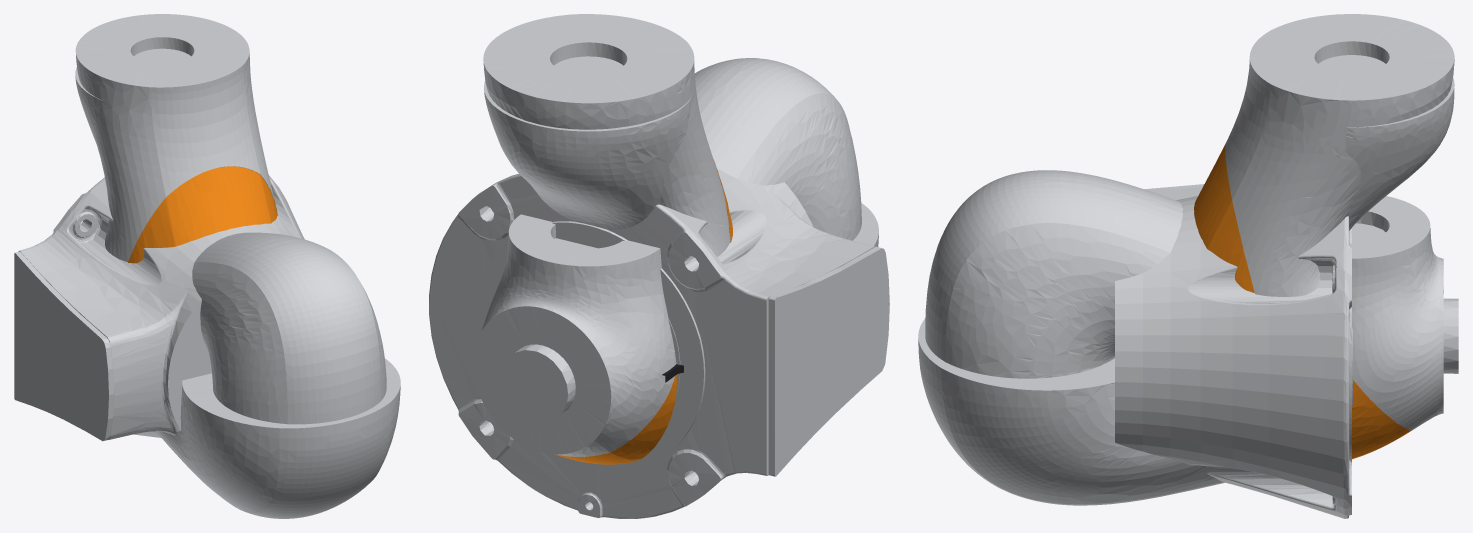
Rendered from arm.glb.
The picture shows the model from 3 angles, left to right: view 1: azimuth 30°, elevation 25°; view 2: azimuth 150°, elevation 25°; view 3: azimuth 270°, elevation 25°; orthographic projection. The views are drawn at different scales.
Parts seen in each view (by area): view 1: b3, b1, b4, b2, b5; view 2: b1, b7, b3, b4, b5, b2; view 3: b1, b3, b4, b2, b7, b5.
Part boxes in pixels (box(x1,y1,x2,y2)): b3: box(75, 14, 277, 263); b1: box(14, 175, 304, 441); b4: box(192, 232, 386, 424); b2: box(155, 358, 400, 518); b5: box(75, 67, 107, 143); b1: box(429, 169, 889, 518); b7: box(473, 214, 676, 464); b3: box(474, 14, 732, 469); b4: box(695, 58, 861, 240); b5: box(484, 80, 693, 395); b2: box(474, 203, 878, 469); b1: box(1115, 184, 1351, 518); b3: box(1194, 14, 1454, 462); b4: box(925, 170, 1182, 378); b2: box(918, 318, 1224, 505); b7: box(1349, 196, 1458, 459); b5: box(1345, 77, 1454, 405).
Size of the model in its own units: 0.2573 by 0.3259 by 0.3587.
